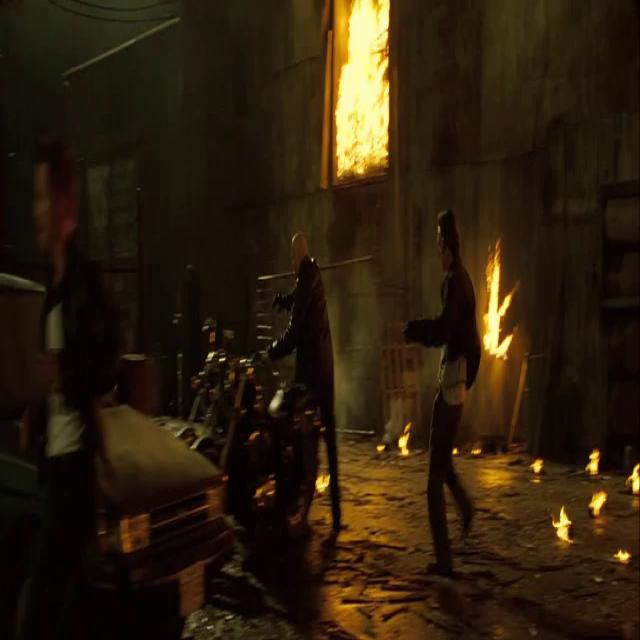Motorbike: (234, 373, 345, 531), (202, 321, 255, 514)
People: (18, 115, 109, 570), (416, 178, 479, 589), (278, 190, 339, 456)
